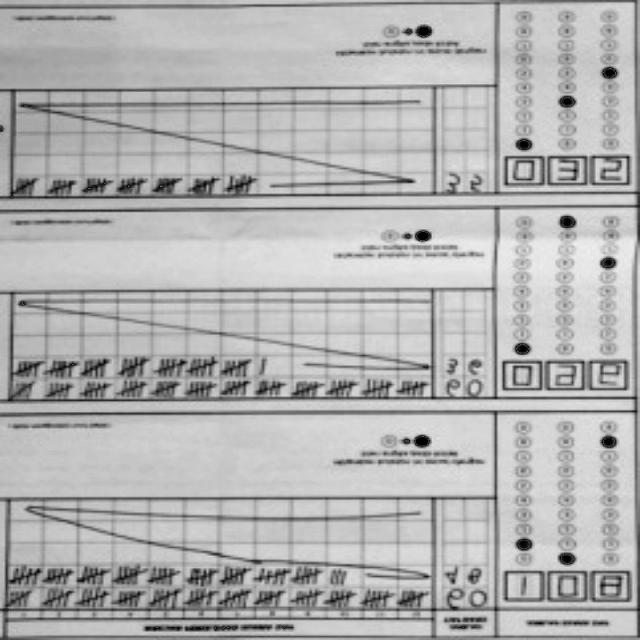Suara: (498, 358, 638, 398), (498, 153, 638, 193), (498, 567, 636, 607)
